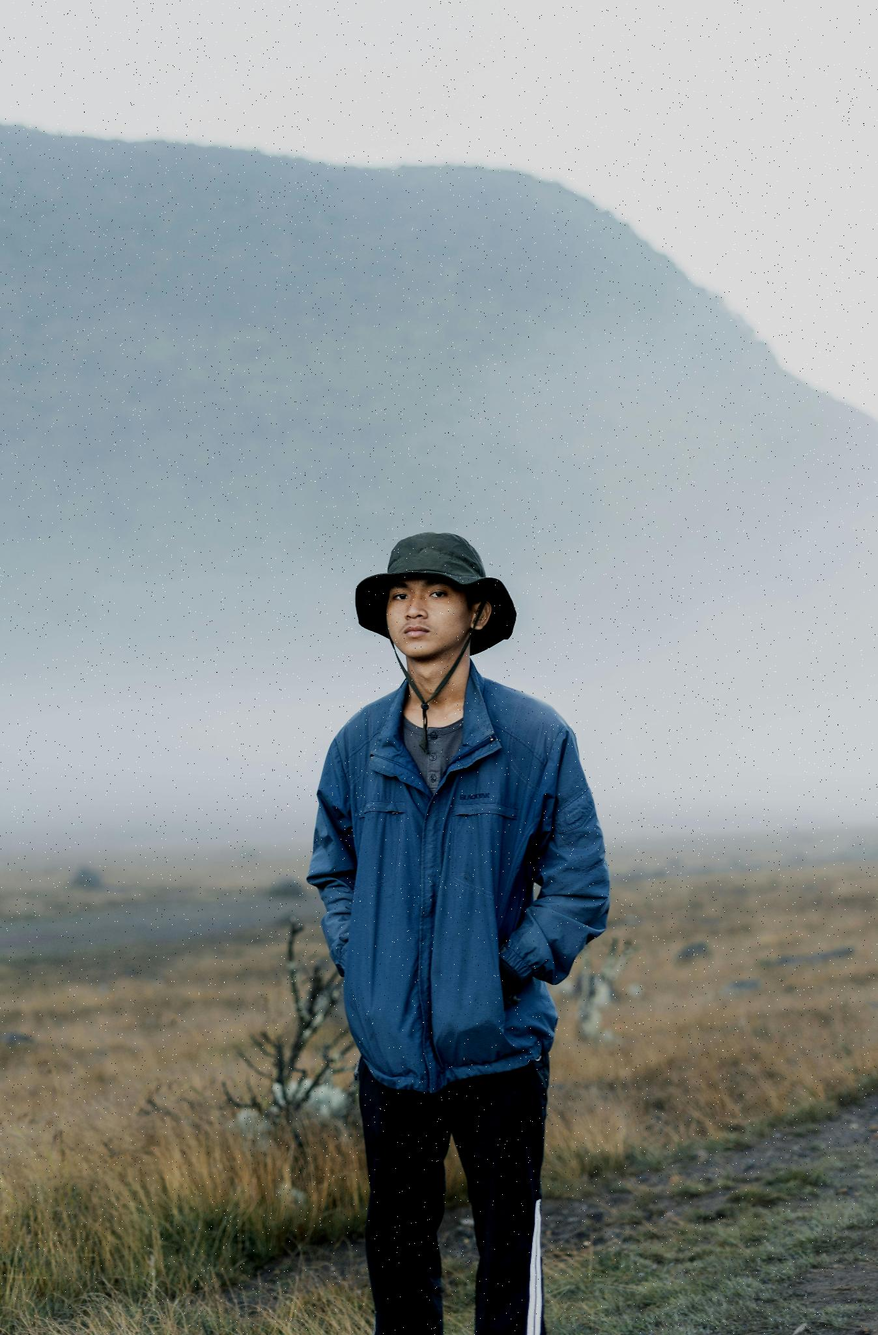pedestrian: (339, 552, 607, 1050)
